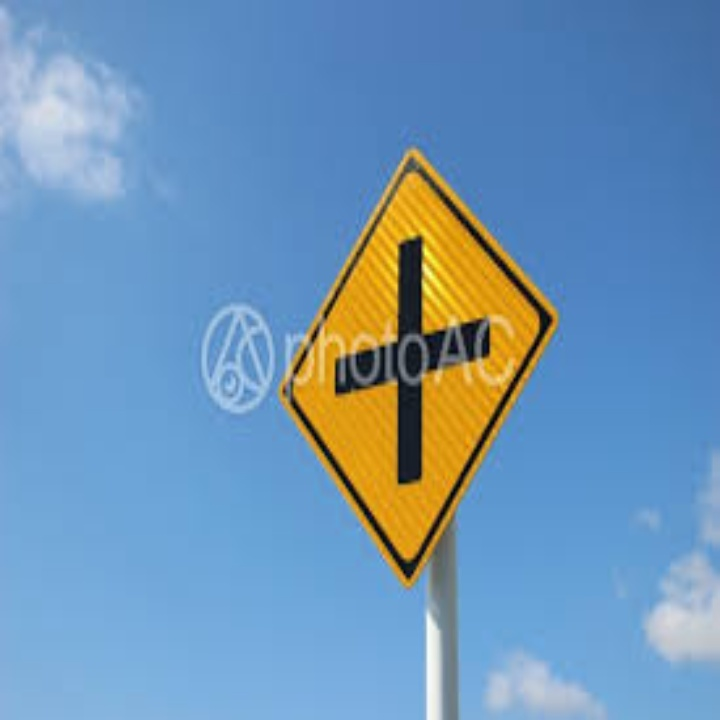inter: (325, 226, 498, 493)
